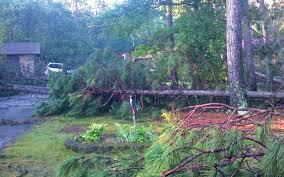Downstairs: (45, 51, 284, 117)
